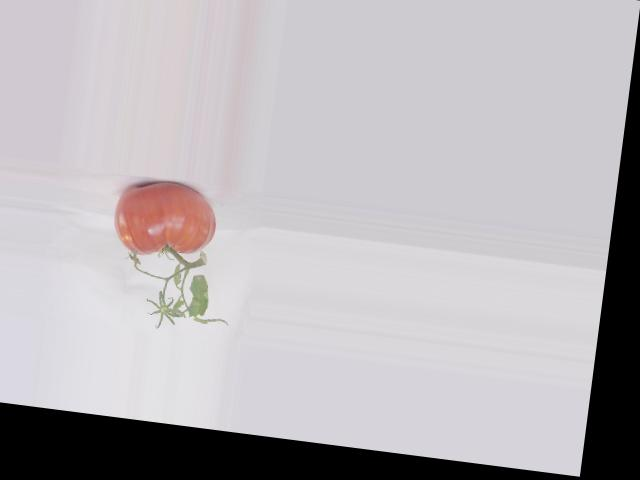tomato: (109, 175, 220, 263)
